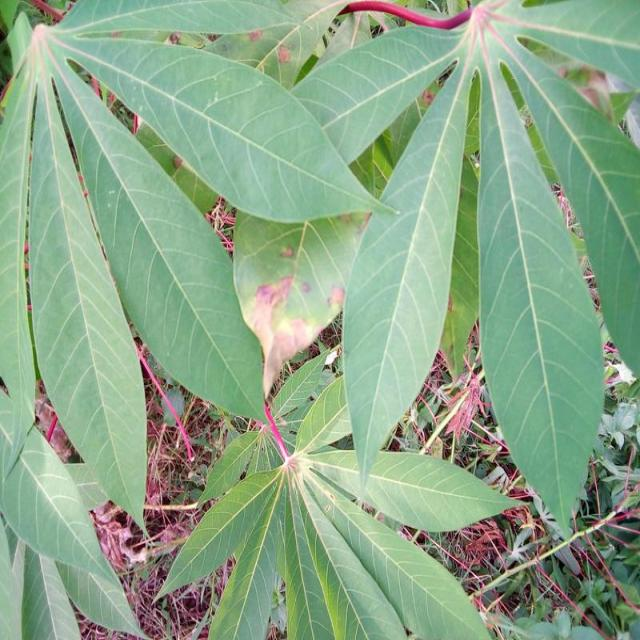cassava leaf: (0, 0, 638, 638), (474, 44, 605, 544), (340, 54, 474, 500)
